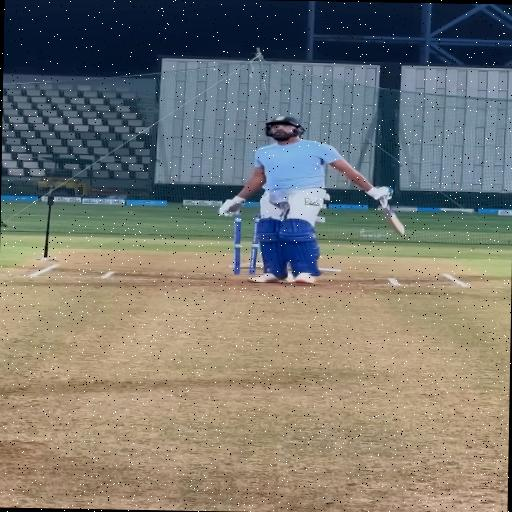Cricket bat: (381, 199, 403, 235)
